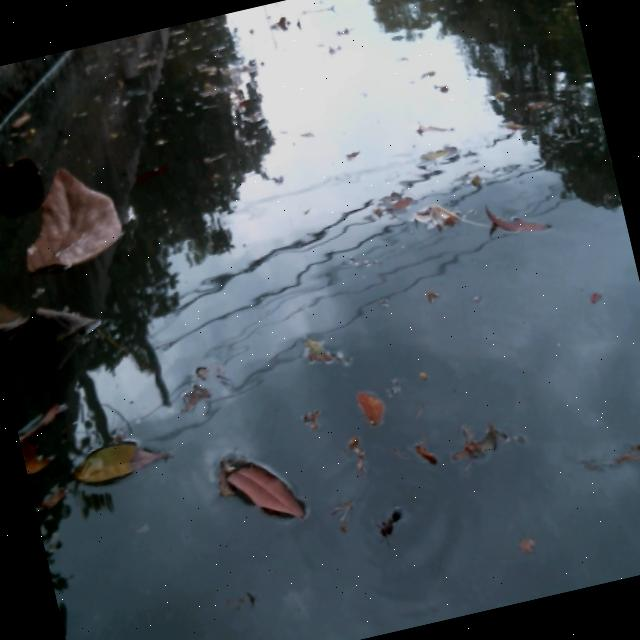Big-leaf: (3, 129, 137, 278), (0, 281, 104, 372), (11, 392, 76, 490), (0, 136, 46, 202)
Small-leaf: (181, 421, 309, 544), (64, 434, 162, 499), (281, 316, 353, 380), (342, 361, 392, 423), (488, 192, 553, 239)
